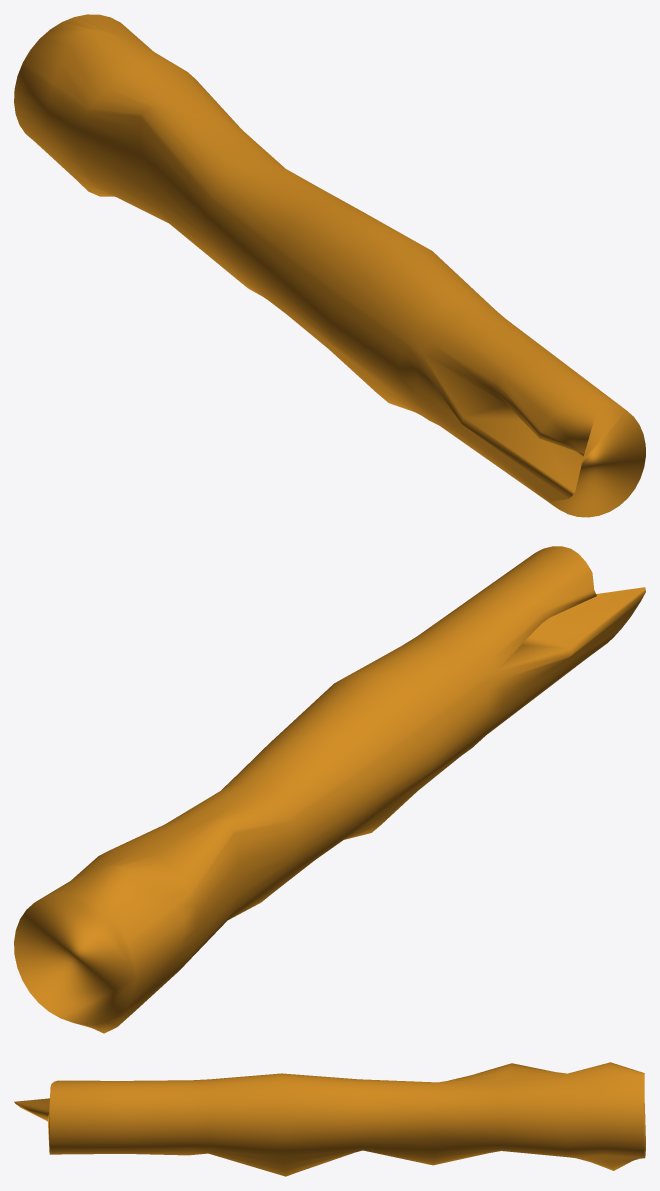
Rendered from log2.fbx.
3 renders of one model, top to bottom at view 1: azimuth 30°, elevation 25°; view 2: azimuth 150°, elevation 25°; view 3: azimuth 270°, elevation 25°, orthographic. The views are drawn at different scales.
Parts seen in each view (by area): view 1: Cylinder.004; view 2: Cylinder.004; view 3: Cylinder.004.
Part boxes in pixels (x1,y1,x2,y2): Cylinder.004: (14,14,645,517); Cylinder.004: (14,546,645,1033); Cylinder.004: (14,1062,645,1176).
Size of the model in its own units: 154 by 193 by 1068.
